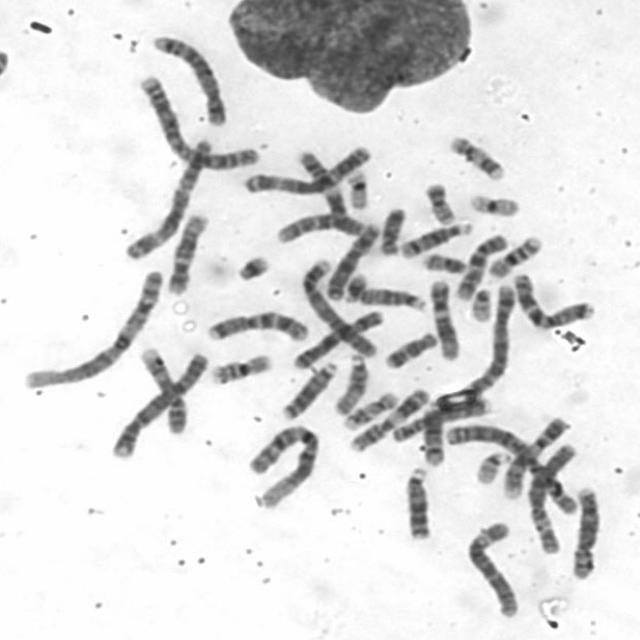A1: (19, 267, 168, 391), (244, 420, 322, 511)
A2: (442, 420, 580, 515), (136, 72, 261, 171)
A3: (121, 131, 215, 262), (238, 142, 374, 196)
B4: (108, 348, 210, 460), (298, 254, 380, 360)
B5: (147, 30, 230, 128), (460, 282, 518, 399)
C10: (451, 231, 508, 303), (271, 208, 367, 245)
C11: (344, 386, 430, 454), (294, 147, 348, 218)
C12: (162, 209, 210, 295), (426, 276, 461, 361)
C6: (524, 440, 579, 556), (462, 518, 522, 618)
C7: (510, 270, 596, 330), (203, 307, 311, 343)
C8: (390, 398, 494, 444), (568, 484, 600, 580)
C9: (498, 414, 571, 501), (136, 344, 188, 436)
D13: (277, 358, 339, 421), (402, 464, 432, 542)
D14: (396, 219, 473, 259), (419, 399, 448, 472)
D15: (330, 351, 370, 416), (355, 284, 428, 312)
E16: (484, 232, 544, 280), (206, 351, 274, 386)
E17: (445, 132, 506, 182), (338, 388, 399, 432)
E18: (381, 328, 438, 371), (376, 204, 406, 256)
F19: (464, 190, 522, 218), (344, 167, 372, 211)
F20: (421, 179, 459, 226), (418, 250, 468, 275)
G21: (231, 251, 273, 283), (342, 269, 369, 304)
G22: (472, 448, 511, 485), (467, 285, 494, 323)
X: (290, 310, 387, 374), (324, 220, 384, 303)
